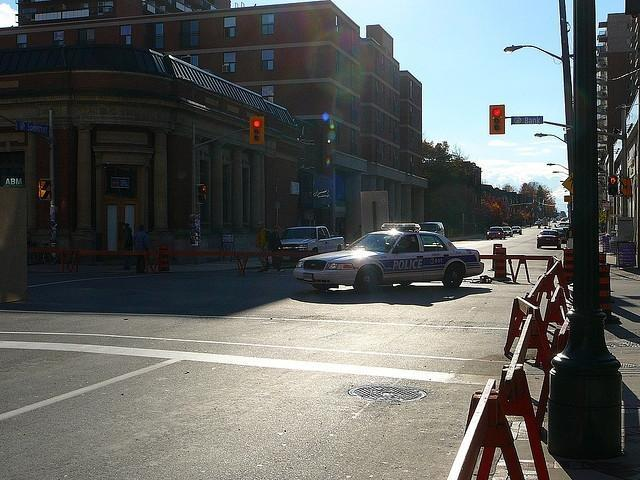car: (294, 229, 486, 297), (538, 230, 562, 250), (418, 221, 446, 237), (552, 228, 570, 244), (486, 226, 506, 240), (502, 226, 514, 237), (512, 226, 522, 236), (558, 222, 570, 226), (534, 221, 542, 226), (560, 218, 566, 222), (547, 216, 550, 222), (540, 221, 544, 224)
truck: (275, 226, 345, 256), (418, 222, 446, 237)
